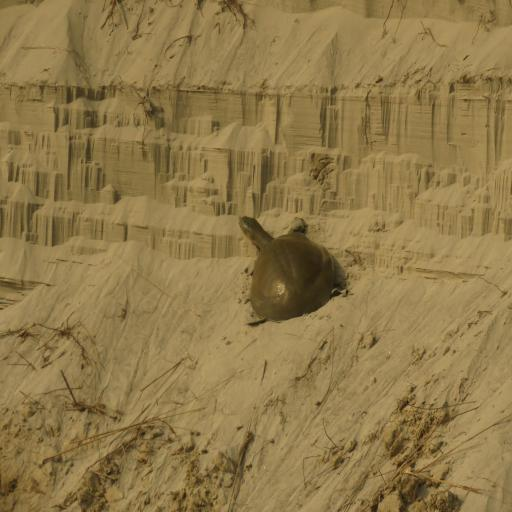turtle: (234, 203, 342, 323)
